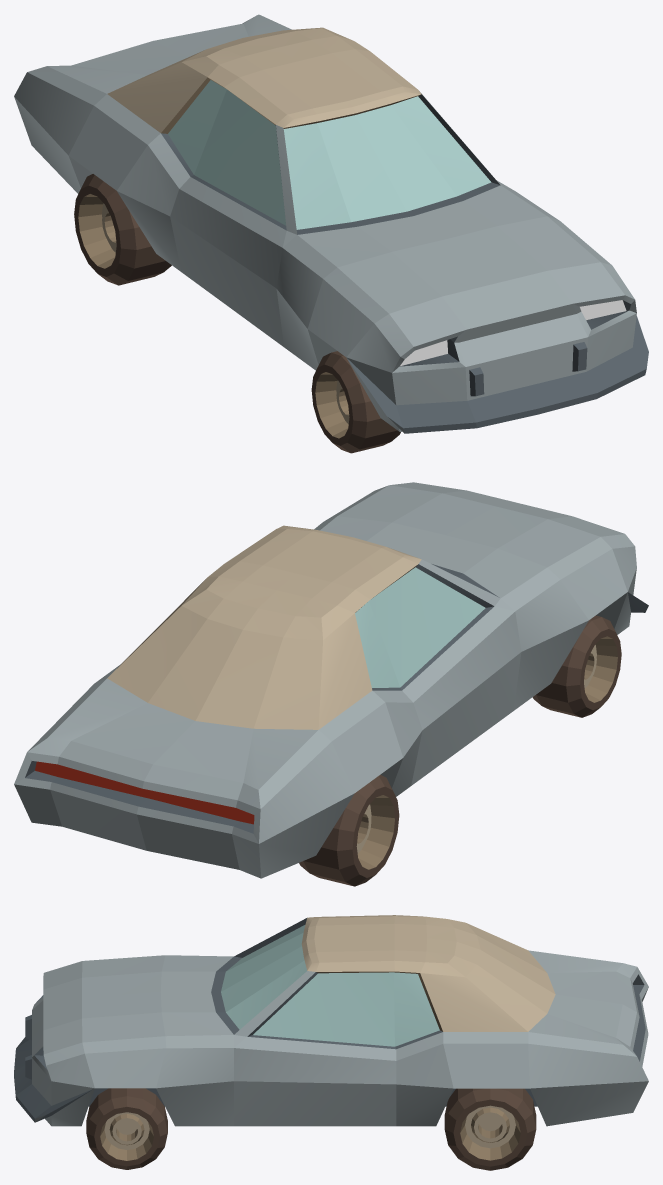
The model's file is car_023.obj.
3 views of the same model, one above another, from view 1: azimuth 30°, elevation 25°; view 2: azimuth 150°, elevation 25°; view 3: azimuth 270°, elevation 25° (orthographic). The views are drawn at different scales.
Bounding box in the file's own units: 2.92 × 2.28 × 7.09.
Materials: 1 (1 with a texture image).
